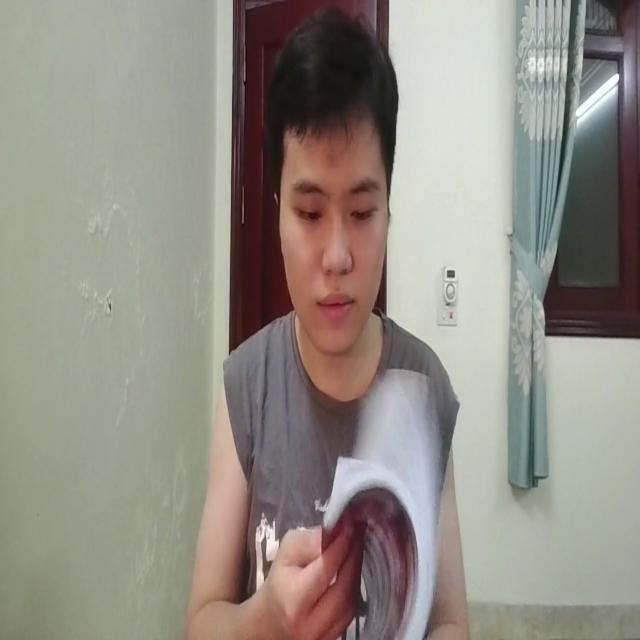book: (311, 374, 444, 640)
student: (194, 6, 468, 640)
